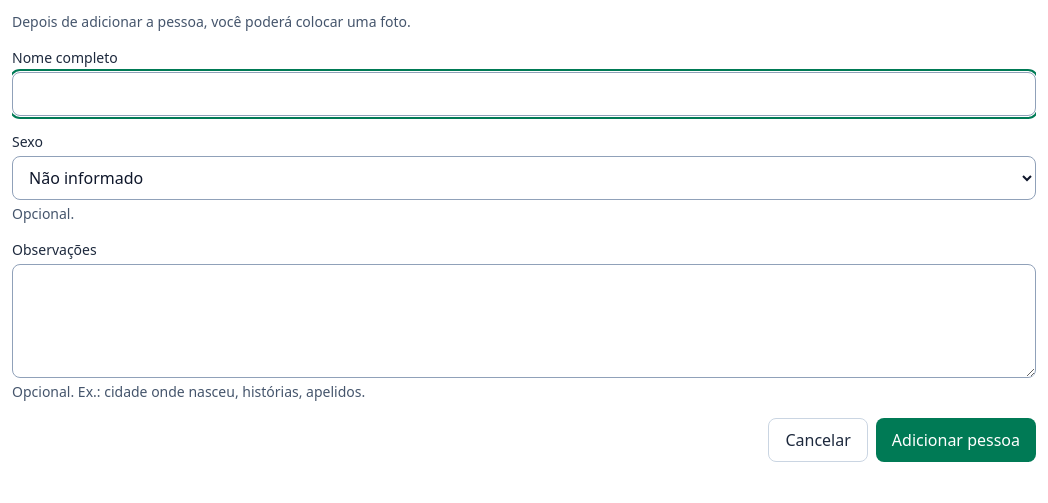
Scenario: PersonForm › exige o nome e nao envia vazio
The image size is (1048, 503).
Click the button "Adicionar pessoa".
click(956, 440)  # box [876,418,1036,462]
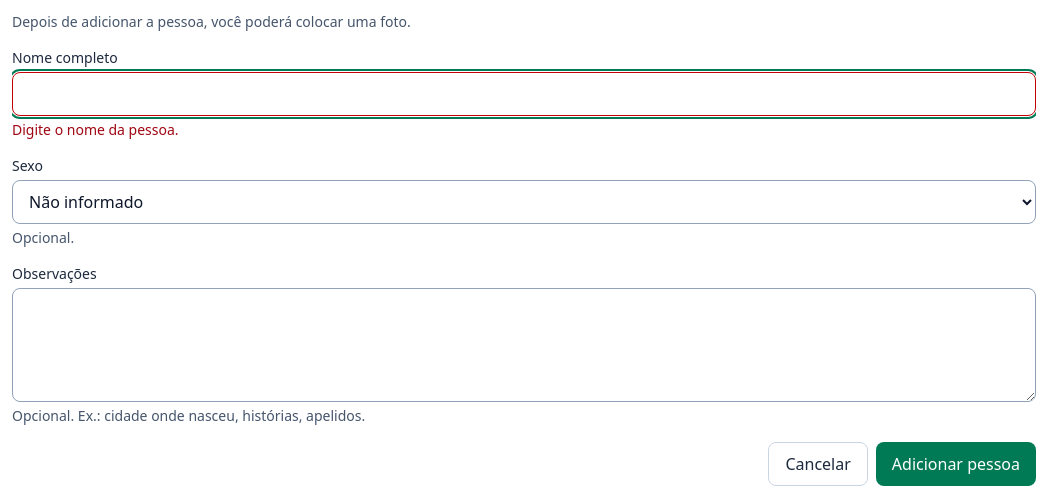
Result: the text "Digite o nome da pessoa." is shown at [12,120,179,139]
